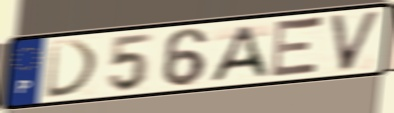5: (107, 31, 155, 94)
6: (159, 26, 211, 88)
A: (207, 23, 270, 84)
D: (43, 38, 102, 101)
E: (267, 14, 326, 81)
V: (327, 8, 384, 74)
